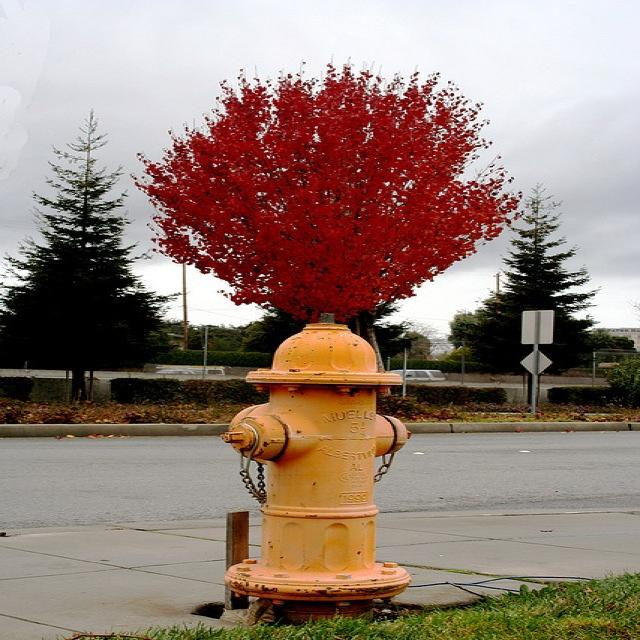car: (388, 368, 444, 380)
fire_hydrant: (211, 307, 420, 626)
pole: (526, 311, 544, 415)
